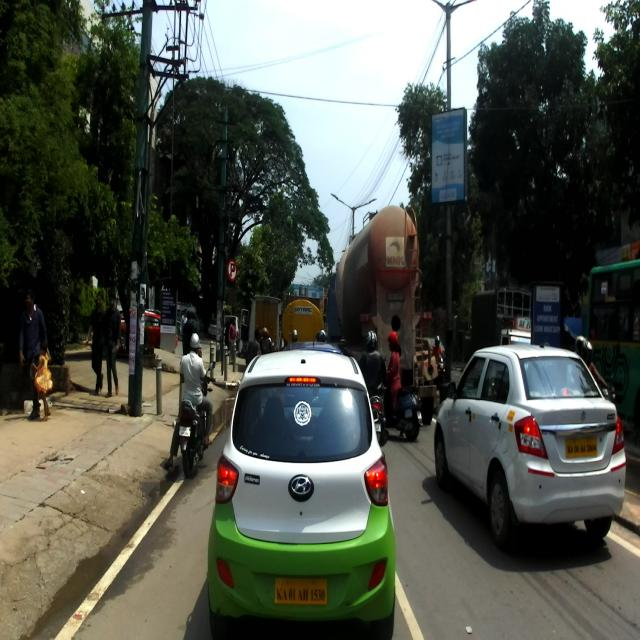Car_Hyundai: (206, 350, 396, 640)
Car_Maruti-Suzuki: (434, 334, 626, 549)
motorcycle_Honda: (174, 359, 216, 478)
scooter: (383, 379, 423, 442)
truck: (324, 204, 437, 425)
